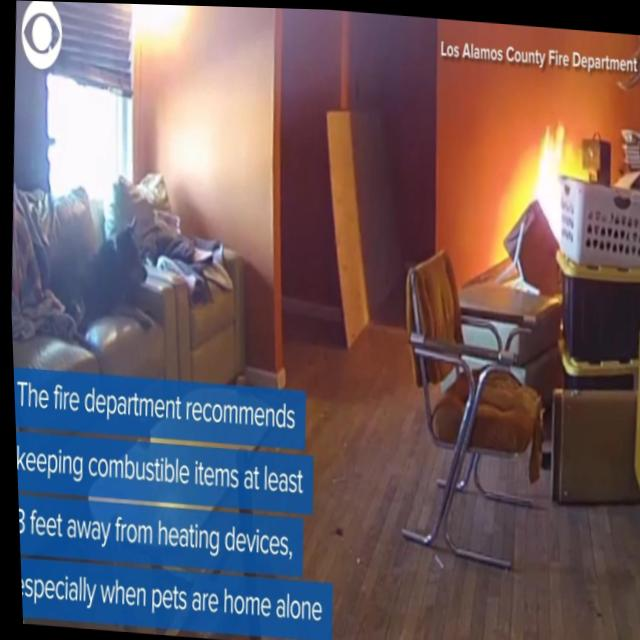fire: (516, 107, 583, 249)
